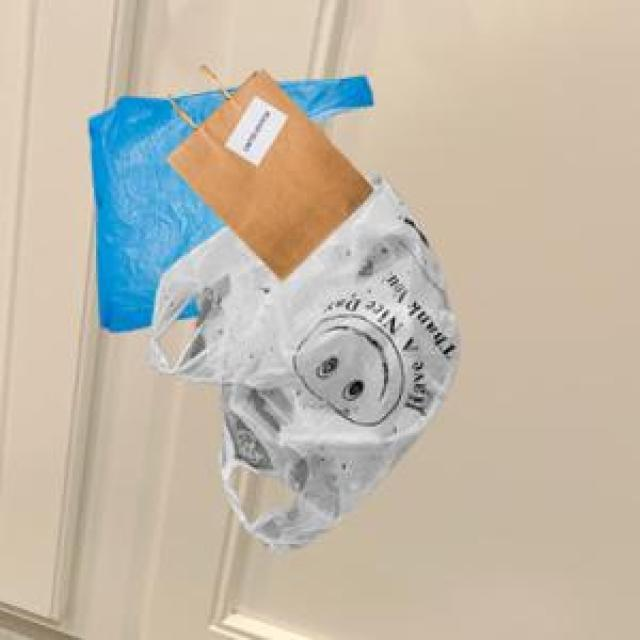paper: (162, 66, 369, 277)
